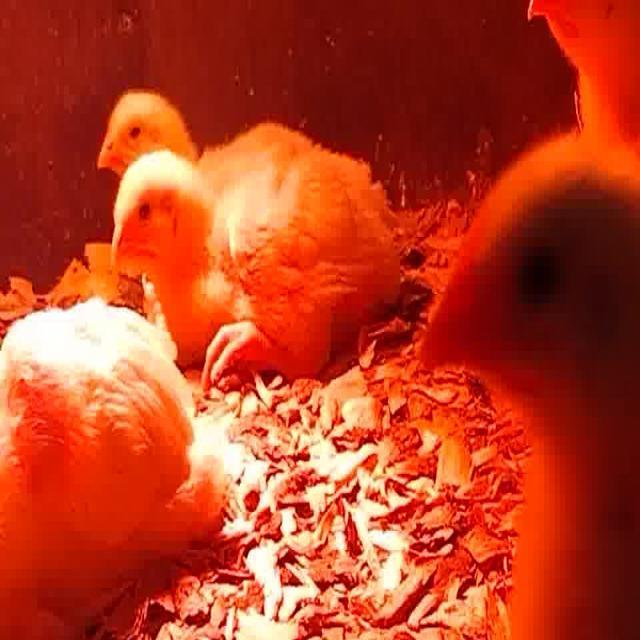poussin: (413, 133, 640, 640), (0, 294, 218, 636), (113, 155, 411, 380), (92, 88, 374, 176)
